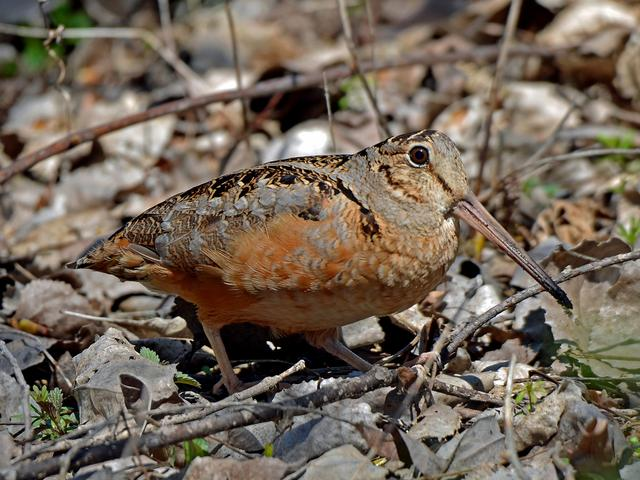bird: (52, 126, 592, 401)
